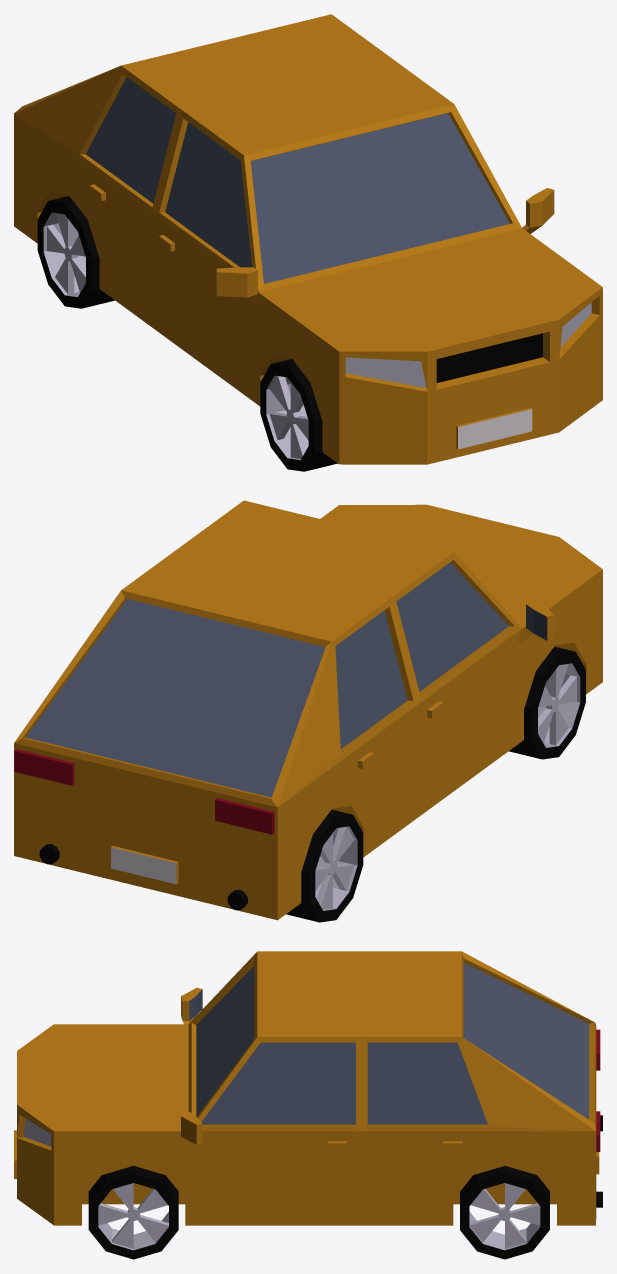
File: Hatchback.gltf
3 renders of one model, top to bottom at view 1: azimuth 30°, elevation 25°; view 2: azimuth 150°, elevation 25°; view 3: azimuth 270°, elevation 25°, orthographic. The views are drawn at different scales.
Size of the model in its own units: 563 by 402 by 1021.
